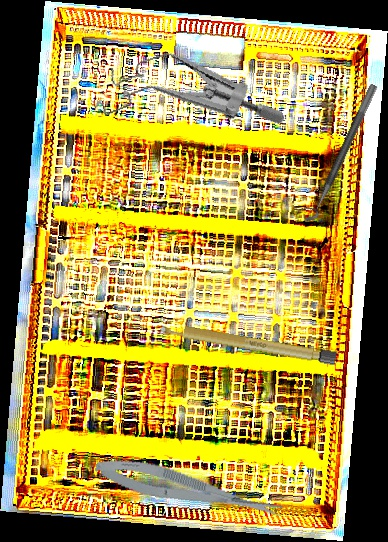Fixation Ring: (294, 78, 379, 226)
Micro Scissor: (91, 448, 286, 532)
Scalpel Handle: (159, 320, 337, 366)
Speculum: (84, 23, 286, 175)
